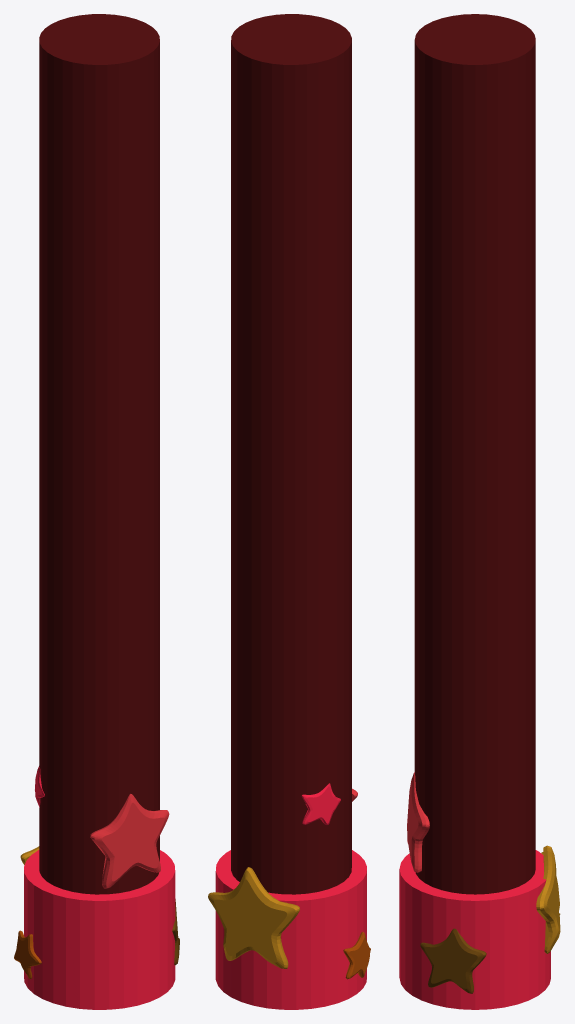
The model's file is temple-pillar.obj.
3 renders of one model, left to right at view 1: azimuth 30°, elevation 25°; view 2: azimuth 150°, elevation 25°; view 3: azimuth 270°, elevation 25°, orthographic.
Visible parts, largest first — view 1: Cylinder, Cylinder.001, BézierCurve, BézierCurve.003; view 2: Cylinder, Cylinder.001, BézierCurve.002, BézierCurve.004, BézierCurve.003; view 3: Cylinder, Cylinder.001, BézierCurve.001, BézierCurve.002, BézierCurve.
Part boxes in pixels (x1,y1,x2,y2): Cylinder: [39, 14, 159, 894]; Cylinder.001: [24, 850, 175, 1009]; BézierCurve: [90, 794, 169, 888]; BézierCurve.003: [14, 930, 41, 978]; Cylinder: [231, 14, 351, 894]; Cylinder.001: [215, 850, 366, 1009]; BézierCurve.002: [208, 867, 299, 968]; BézierCurve.004: [301, 783, 340, 824]; BézierCurve.003: [343, 932, 370, 979]; Cylinder: [414, 14, 535, 894]; Cylinder.001: [399, 850, 550, 1009]; BézierCurve.001: [420, 928, 486, 993]; BézierCurve.002: [536, 845, 560, 953]; BézierCurve: [407, 772, 429, 872].
Size of the model in its own units: 1.41 by 8.55 by 1.33.
